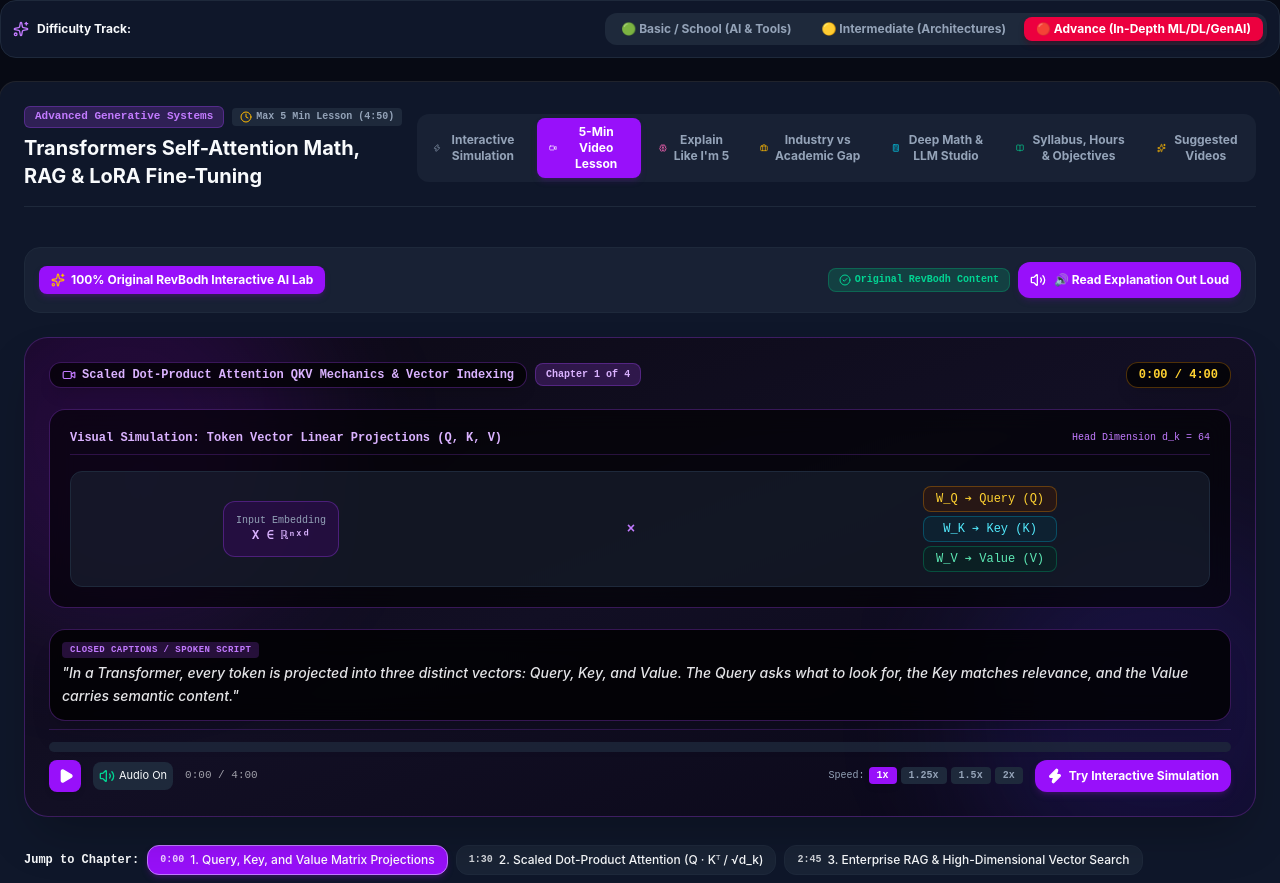
Test: Industry-Standard Recognized Credentials & Verification Ledger › renders "Industry vs Academic Gap" comparison in MicroLearningPlayer
Click the button "Industry vs Academic Gap". click: (811, 148)
box: [748,126,874,170]
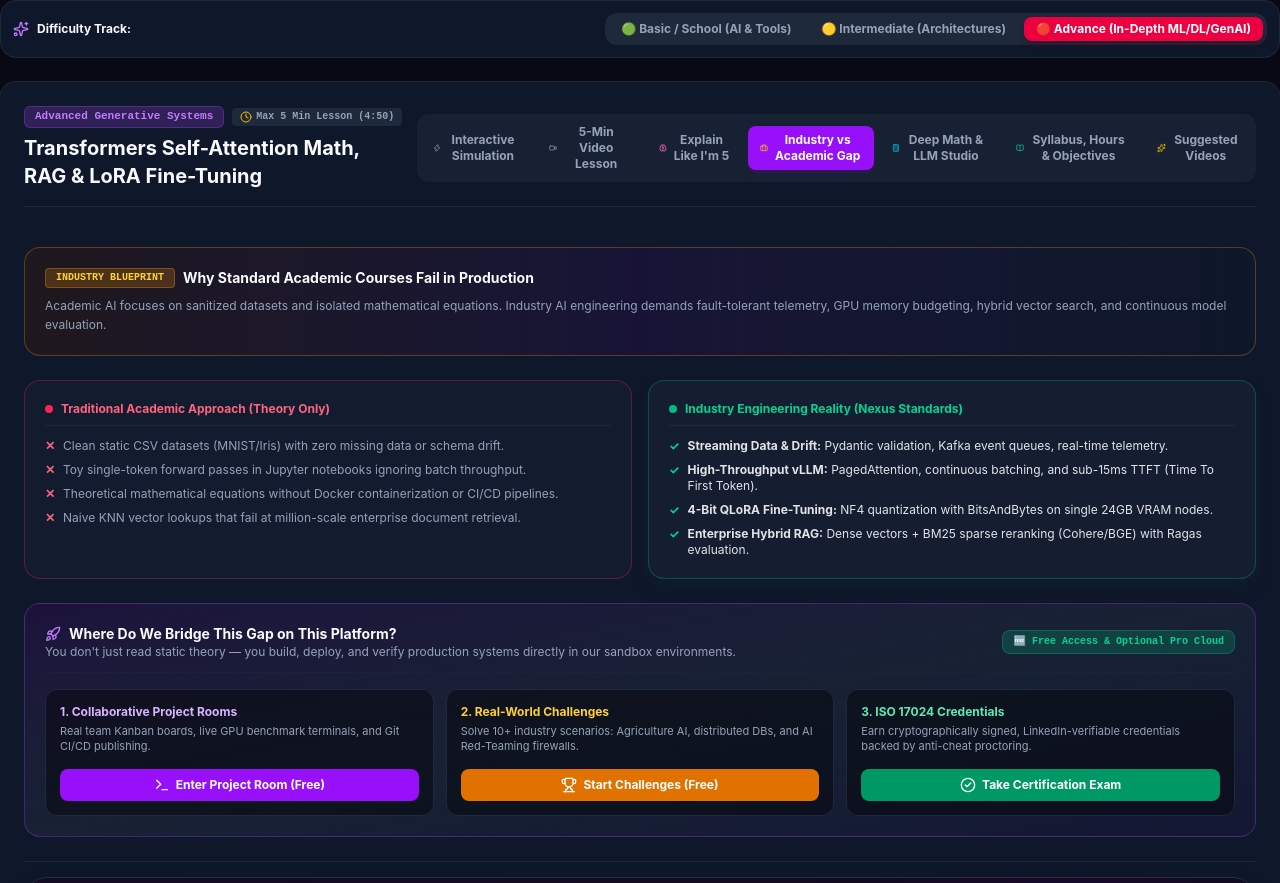
Expected: the heading "Why Standard Academic Courses Fail in Production" is shown, [183,268,534,288]
Expected: the heading "Traditional Academic Approach (Theory Only)" is shown, [61,401,330,417]
Expected: the heading "Industry Engineering Reality (Nexus Standards)" is shown, [685,401,963,417]
